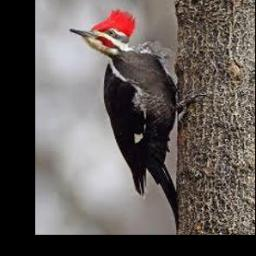Woodpecker: (70, 10, 206, 233)
